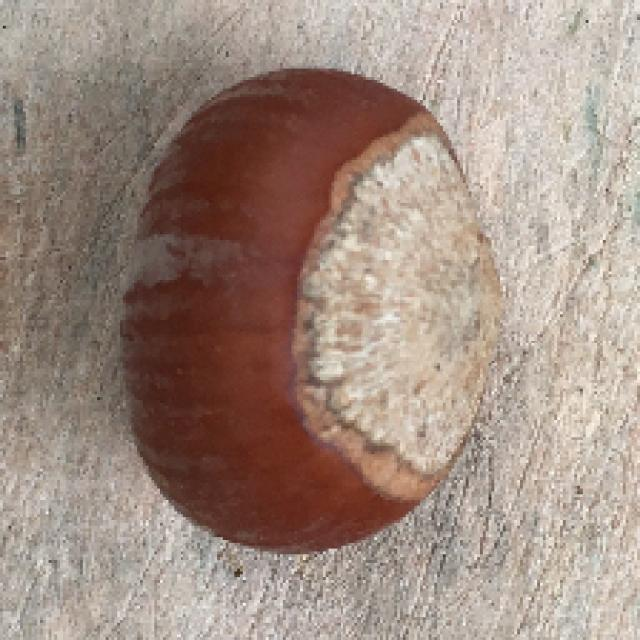qualityHazelnut: (104, 64, 506, 555)
